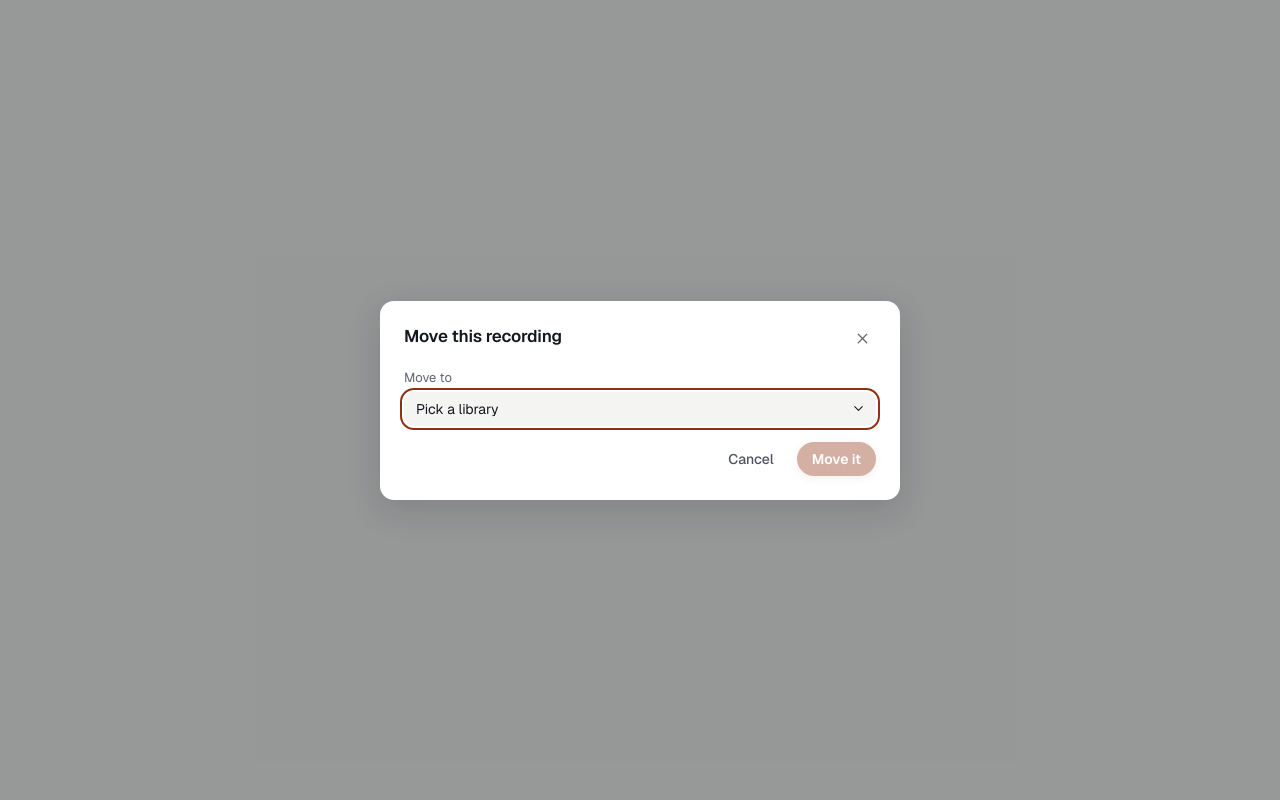
Test: what it says will happen › names who gains it when the destination is shared more widely
Click the dropdown named "Move to": [457, 408] box [404, 392, 876, 426]
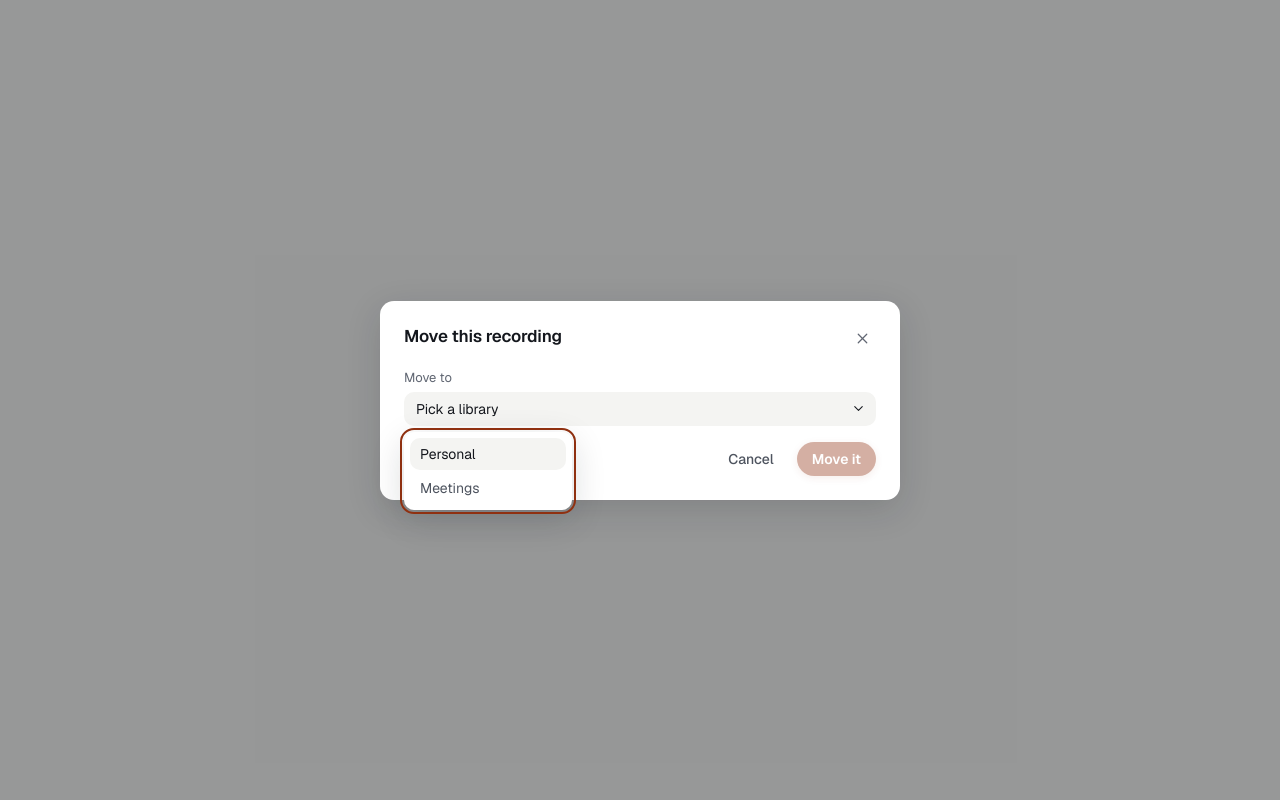
Click the option "Personal": [488, 454] box [410, 438, 566, 470]
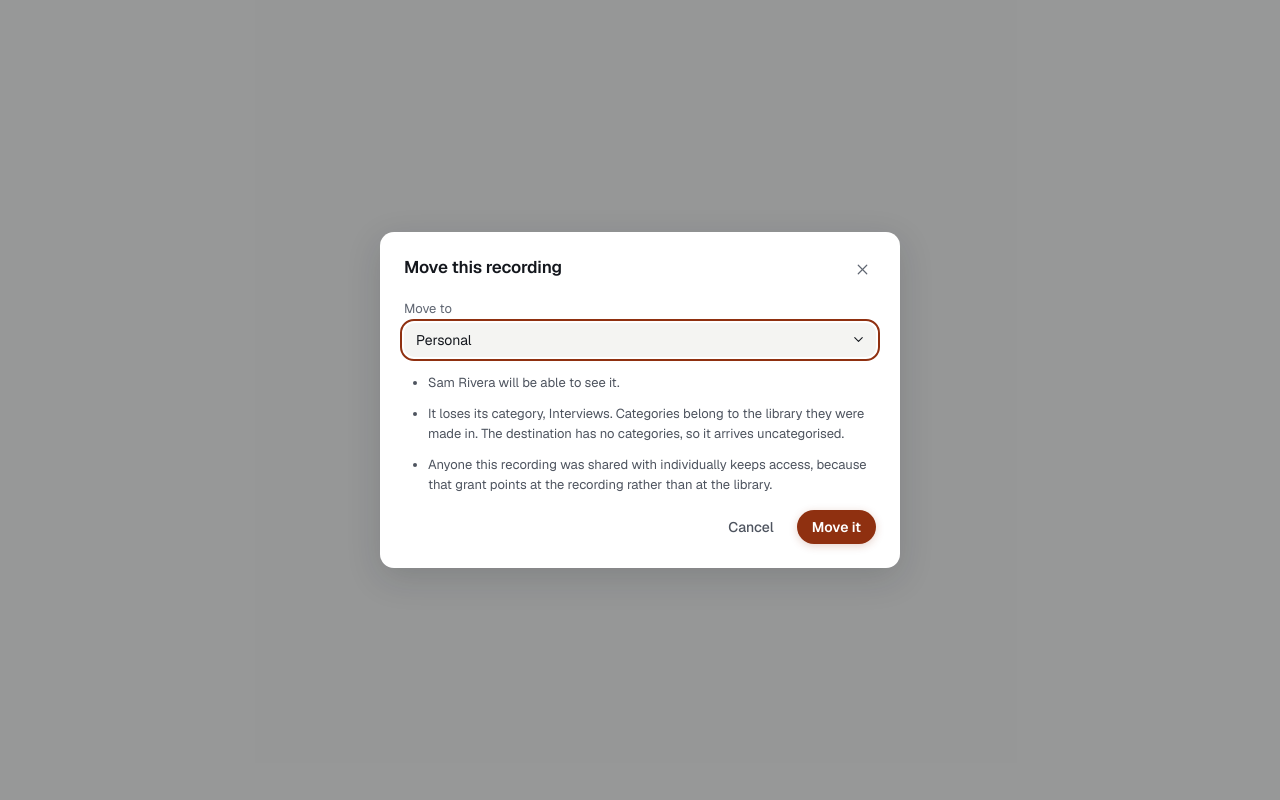
Result: the list item "Sam Rivera will be able to see it." is shown at [428, 374, 620, 391]
